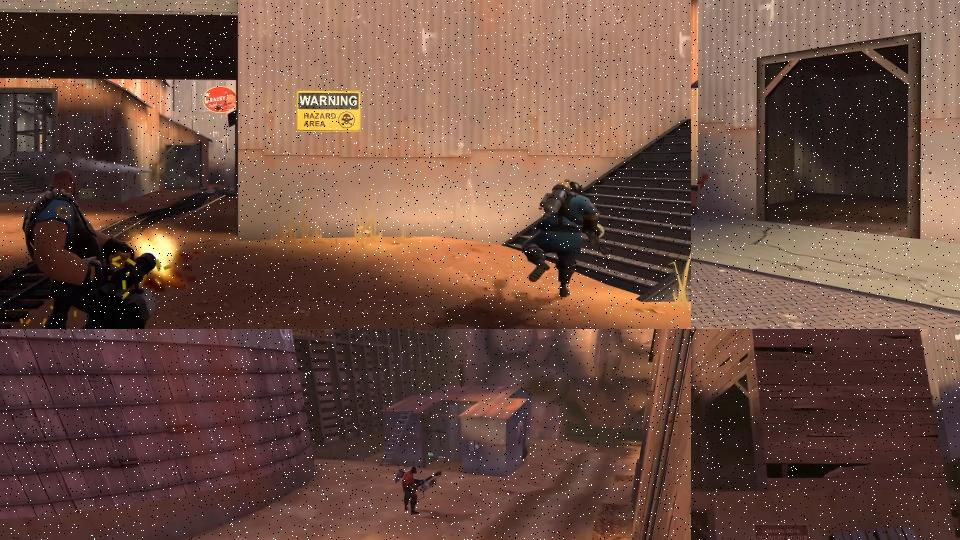Enemy: (20, 167, 172, 329), (521, 177, 613, 296), (391, 461, 446, 521)
